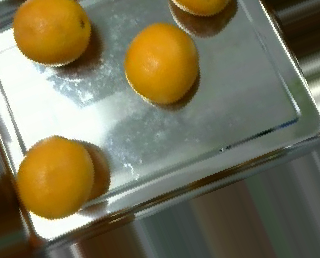Orange: (14, 133, 95, 220), (123, 22, 198, 104), (12, 1, 91, 66)
